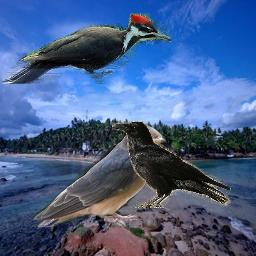Crow: (112, 121, 231, 208)
Swallow: (32, 124, 167, 233)
Woodpecker: (2, 13, 171, 84)
